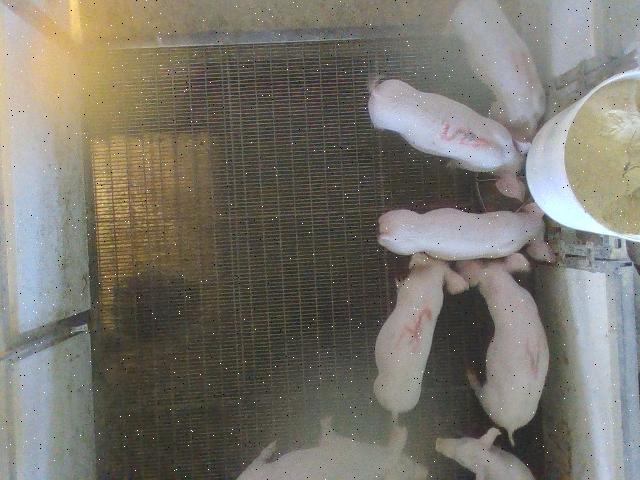pig-1: (456, 253, 549, 445)
pig-3: (369, 79, 529, 201)
pig-4: (451, 1, 545, 154)
pig-5: (374, 253, 469, 419)
